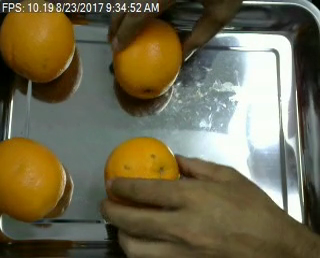Orange: (1, 135, 67, 220), (1, 13, 76, 83)
